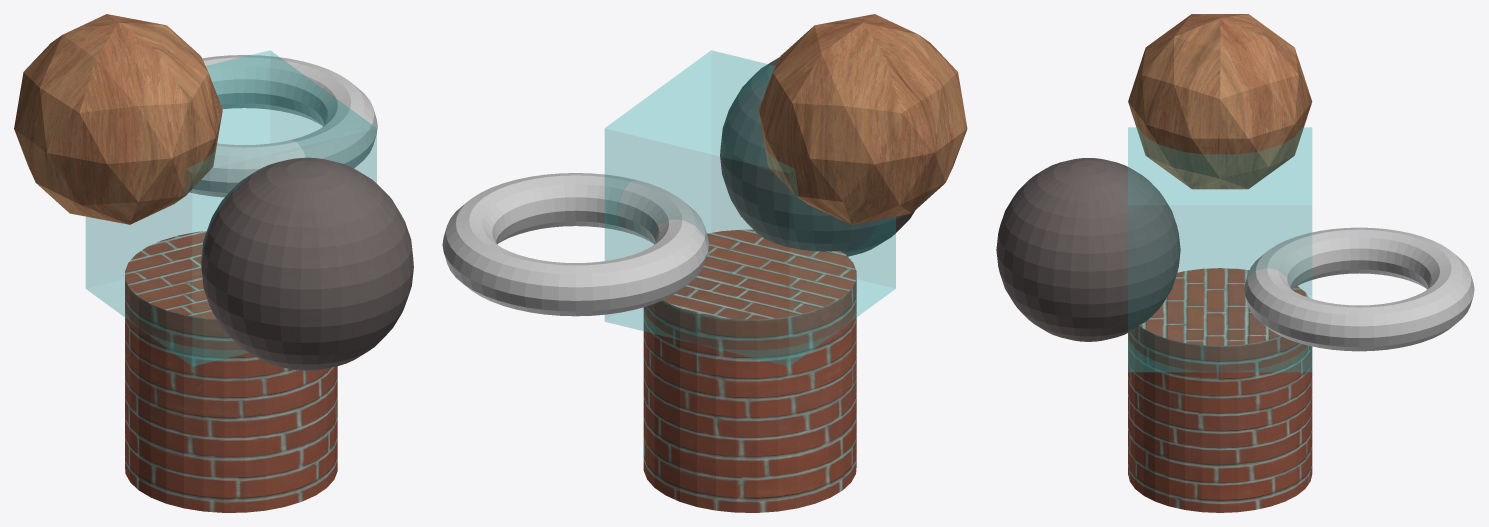
The model's file is REFERENCE_PBR_MODEL2.fbx.
The picture shows the model from 3 angles, left to right: view 1: azimuth 30°, elevation 25°; view 2: azimuth 150°, elevation 25°; view 3: azimuth 270°, elevation 25°; orthographic projection. The views are drawn at different scales.
Visible parts, largest first — view 1: bricks, plastic, wood, glass, fabrics; view 2: glass, bricks, wood, fabrics, plastic; view 3: glass, bricks, plastic, wood, fabrics.
Part boxes in pixels (x1,y1,x2,y2): bricks: [125, 231, 337, 512]; plastic: [201, 157, 413, 370]; wood: [14, 14, 222, 224]; glass: [86, 50, 376, 366]; fabrics: [189, 55, 377, 197]; glass: [605, 50, 895, 366]; bricks: [643, 229, 856, 512]; wood: [759, 14, 967, 224]; fabrics: [442, 173, 708, 316]; plastic: [720, 57, 915, 256]; glass: [1128, 127, 1311, 371]; bricks: [1128, 268, 1312, 512]; plastic: [996, 158, 1180, 341]; wood: [1128, 14, 1312, 189]; fabrics: [1244, 227, 1474, 351].
Bounding box in the file's own units: 444 × 489 × 519.
